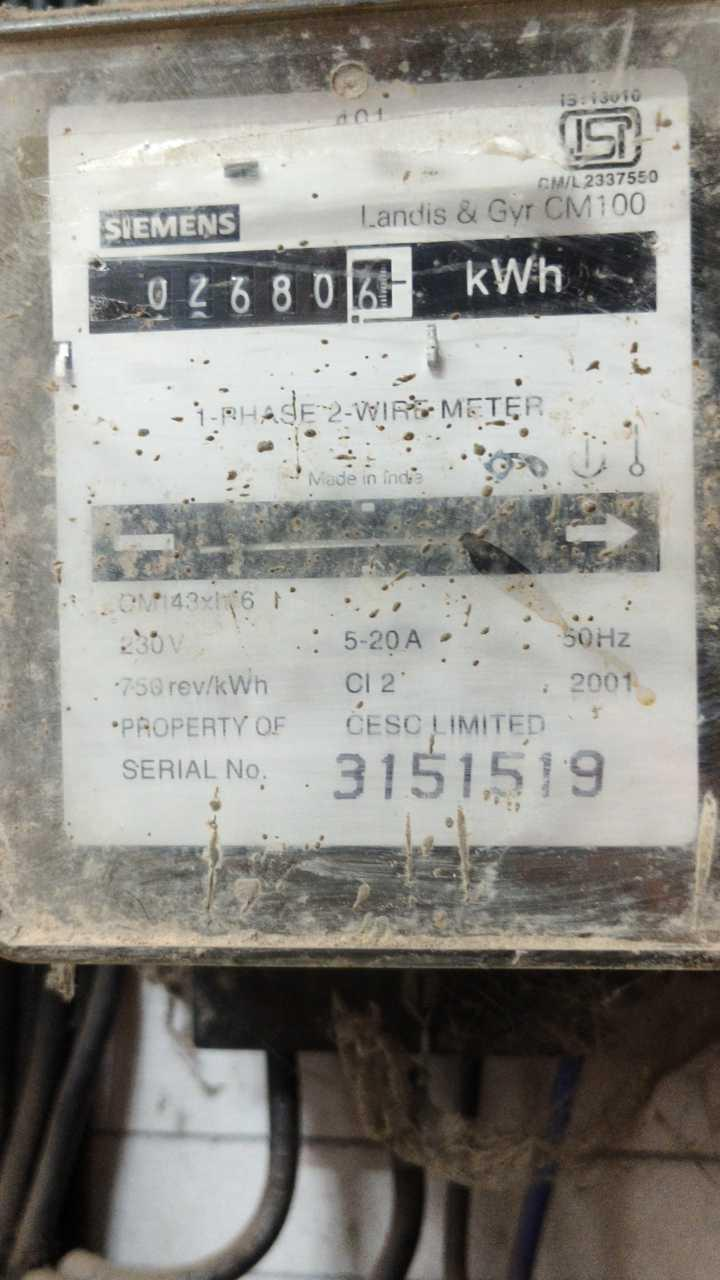meter_readings: (133, 260, 411, 325)
serial_number: (333, 743, 619, 809)
